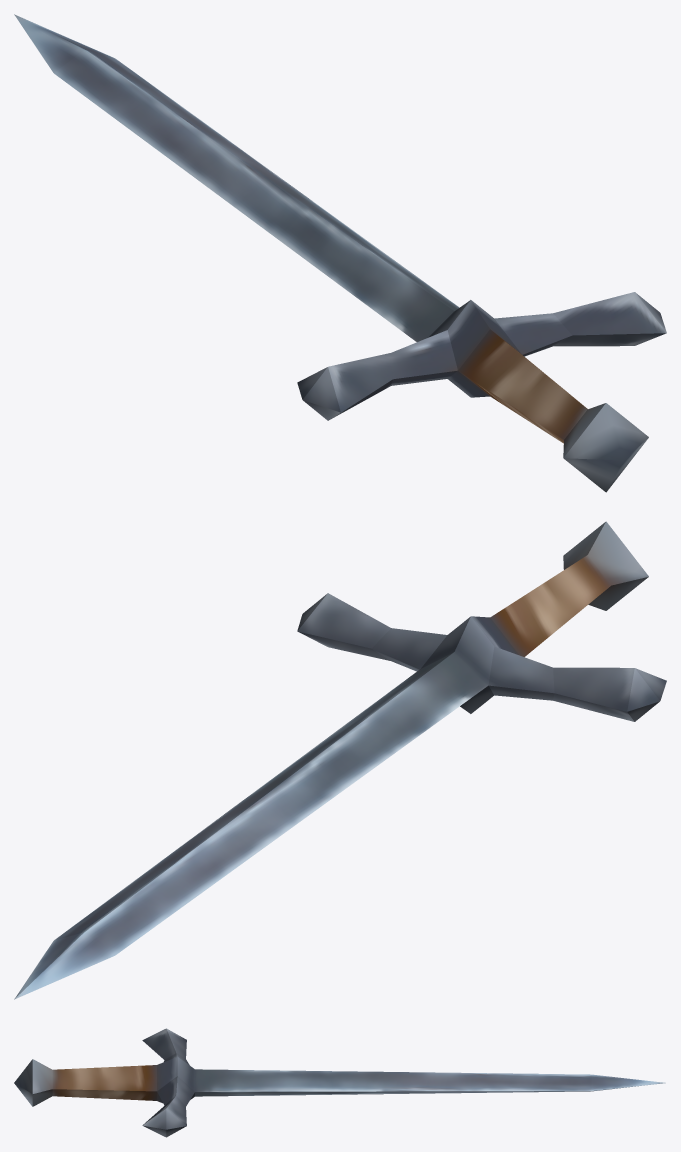
The model's file is Vampire_Village_Props_01.FBX.
The picture shows the model from 3 angles, top to bottom: view 1: azimuth 30°, elevation 25°; view 2: azimuth 150°, elevation 25°; view 3: azimuth 270°, elevation 25°; orthographic projection. The views are drawn at different scales.
Visible parts, largest first — view 1: Vampire_Village_Props_01; view 2: Vampire_Village_Props_01; view 3: Vampire_Village_Props_01.
Boxes of the visible parts, x1,y1,x2,y2 form: Vampire_Village_Props_01: [14, 14, 666, 492]; Vampire_Village_Props_01: [14, 521, 666, 999]; Vampire_Village_Props_01: [14, 1028, 665, 1137].
Bounding box in the file's own units: 63.47 × 16.6 × 187.
